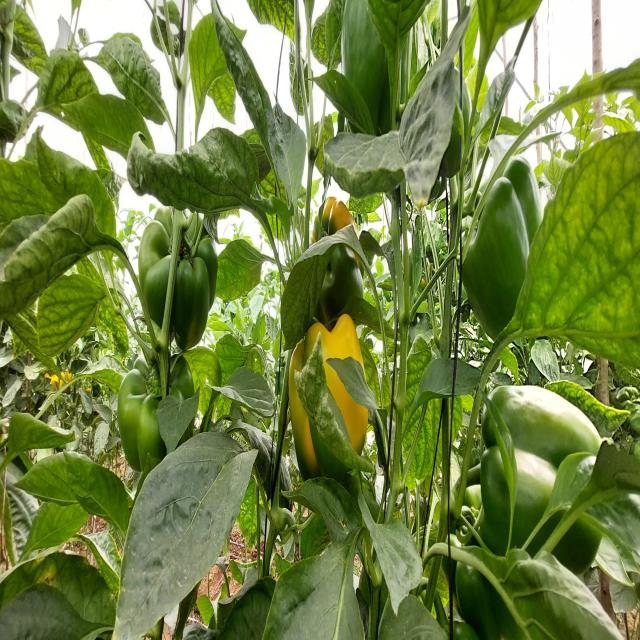Green--Not-ready-to-harvest: (468, 374, 609, 590), (446, 182, 552, 340), (137, 174, 219, 347), (119, 340, 211, 492), (348, 3, 426, 137)
GreenishYellow--Can-be-Harvested: (282, 311, 375, 487)
